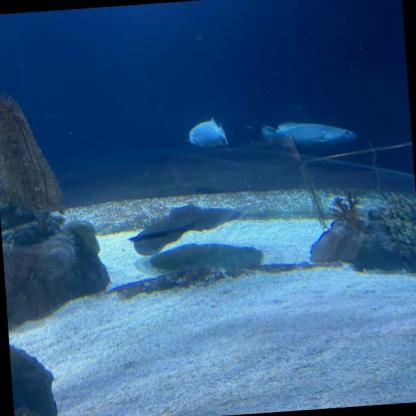fish: (262, 118, 358, 148), (187, 118, 228, 148)
stingray: (130, 200, 246, 257)
